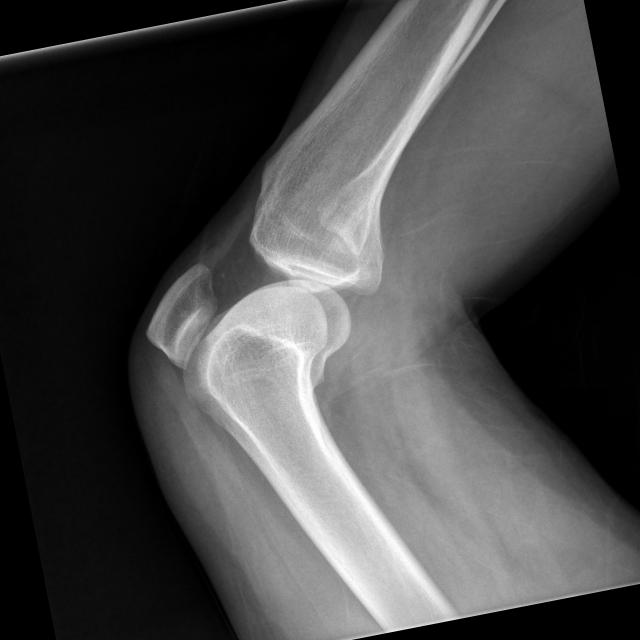Knee: (126, 183, 410, 404)
